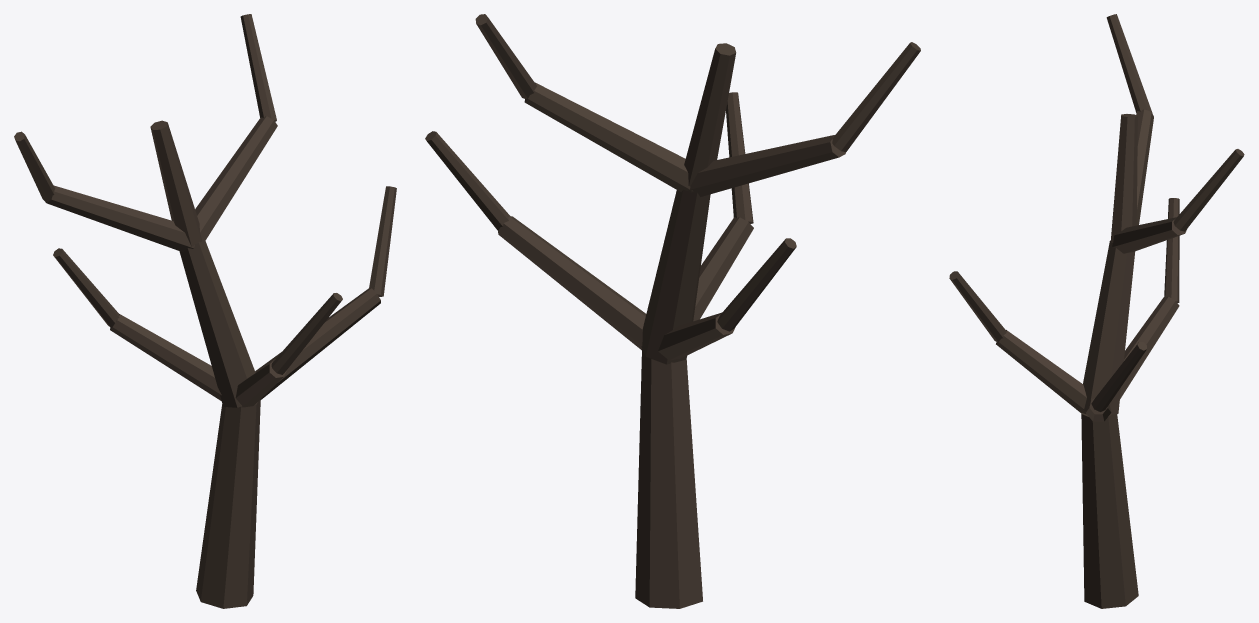
The model's file is dead_tree_a.glb.
3 views of the same model, side by side, from view 1: azimuth 30°, elevation 25°; view 2: azimuth 150°, elevation 25°; view 3: azimuth 270°, elevation 25° (orthographic). The views are drawn at different scales.
Visible parts, largest first — view 1: dead_tree_a; view 2: dead_tree_a; view 3: dead_tree_a.
Part boxes in pixels (box(x1,y1,x2,y2)): dead_tree_a: box(14, 14, 396, 608); dead_tree_a: box(425, 14, 920, 608); dead_tree_a: box(949, 14, 1244, 608).
Size of the model in its own units: 3.56 by 4.42 by 2.41.
